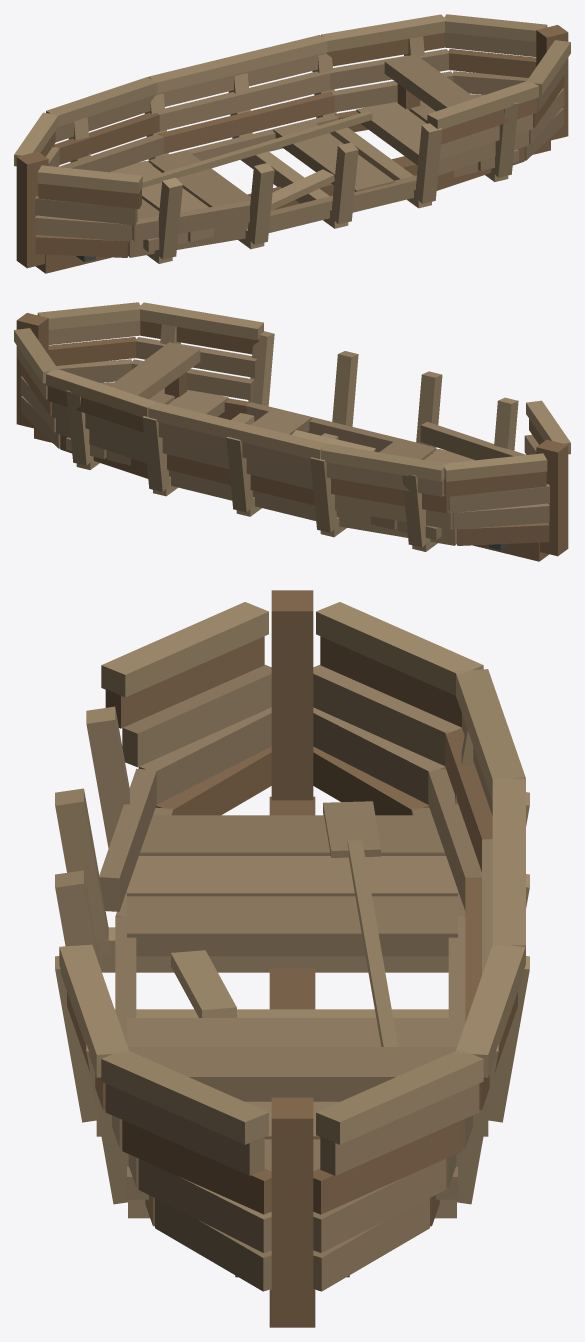
Rendered from wrecked-ferry.glb.
The picture shows the model from 3 angles, top to bottom: view 1: azimuth 30°, elevation 25°; view 2: azimuth 150°, elevation 25°; view 3: azimuth 270°, elevation 25°; orthographic projection. The views are drawn at different scales.
Visible parts, largest first — view 1: wrecked-ferry; view 2: wrecked-ferry; view 3: wrecked-ferry.
Boxes of the visible parts, x1,y1,x2,y2 form: wrecked-ferry: [14, 14, 570, 273]; wrecked-ferry: [14, 302, 570, 561]; wrecked-ferry: [55, 590, 529, 1327].
Size of the model in its own units: 6 by 1.2 by 2.28.
